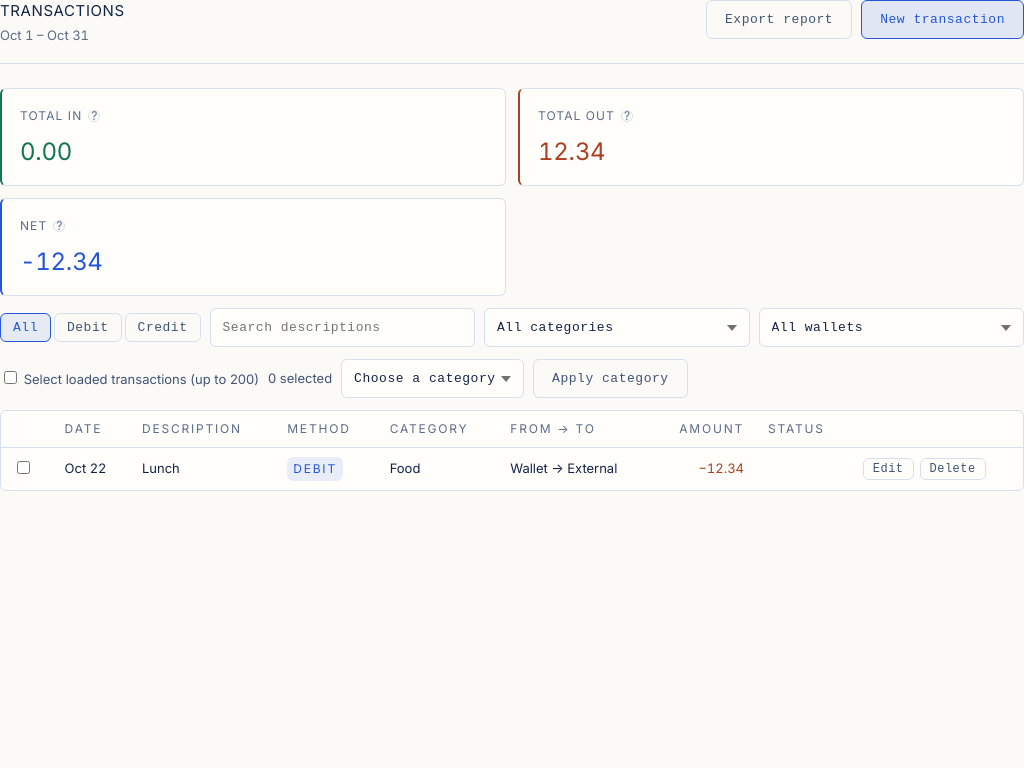
Test: transaction cleanup › prevents exporting a reversed date range
The width and height of the screenshot is (1024, 768).
Step 1. Click the button "Export report" → point(779, 20), box [706, 0, 852, 39]
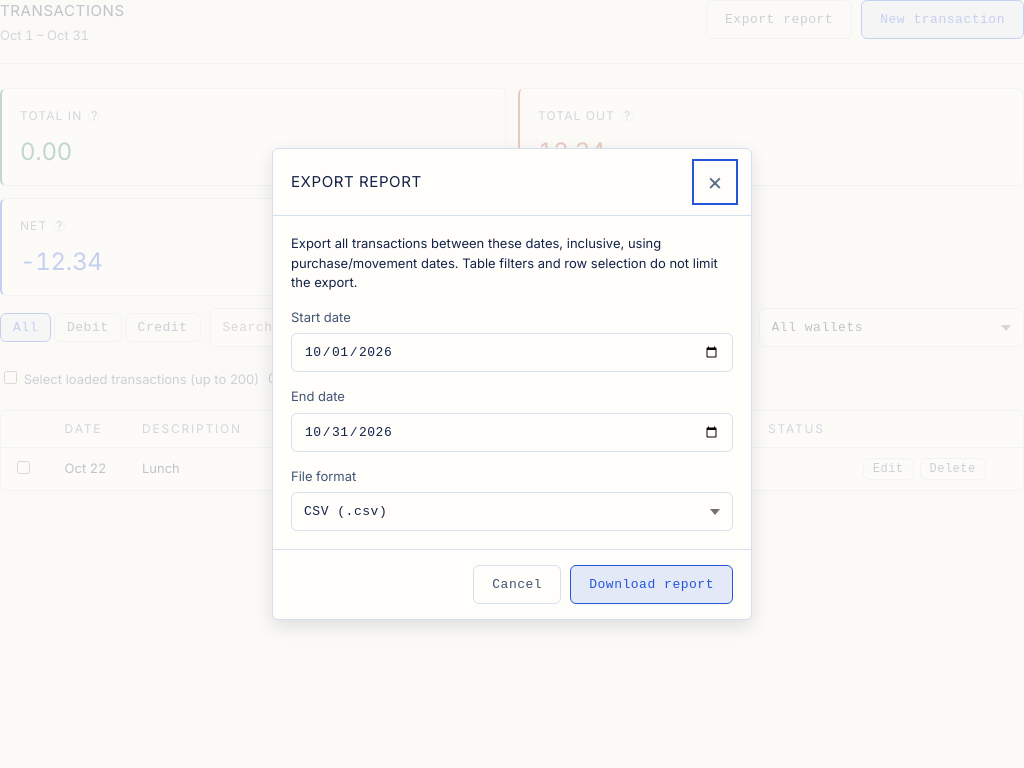
Step 2. Clear the date field labelled "End date" → point(512, 432), box [291, 412, 733, 452]
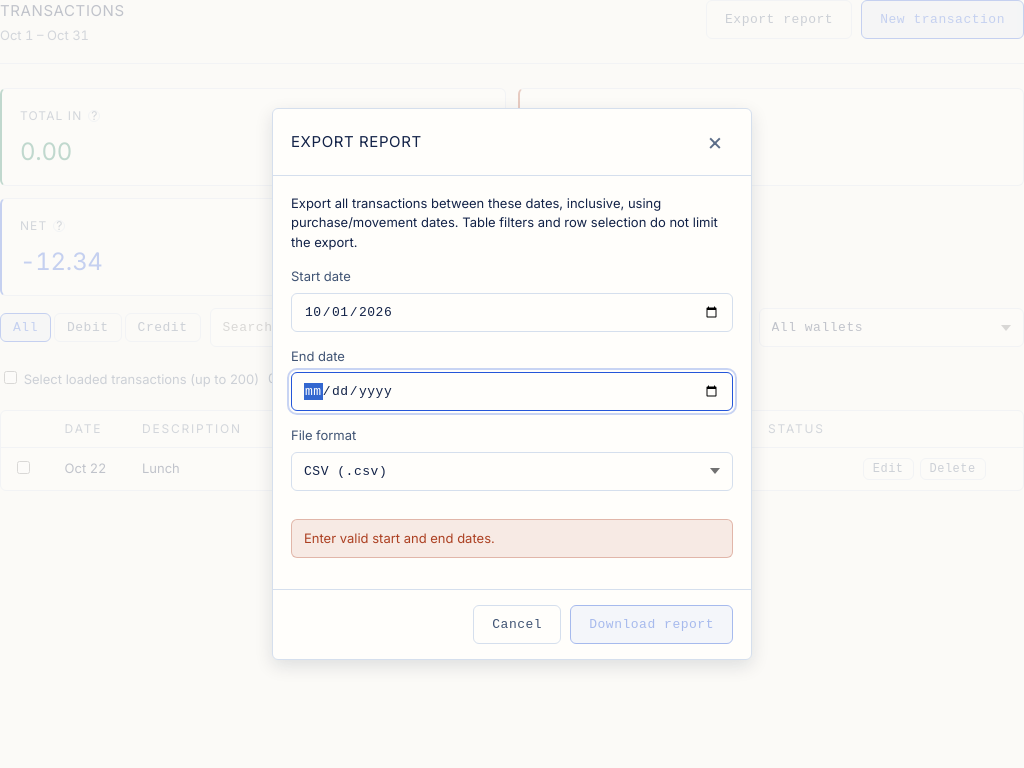
Step 3. Type "2026-09-30" into the date field labelled "End date" → point(512, 392), box [291, 372, 733, 411]
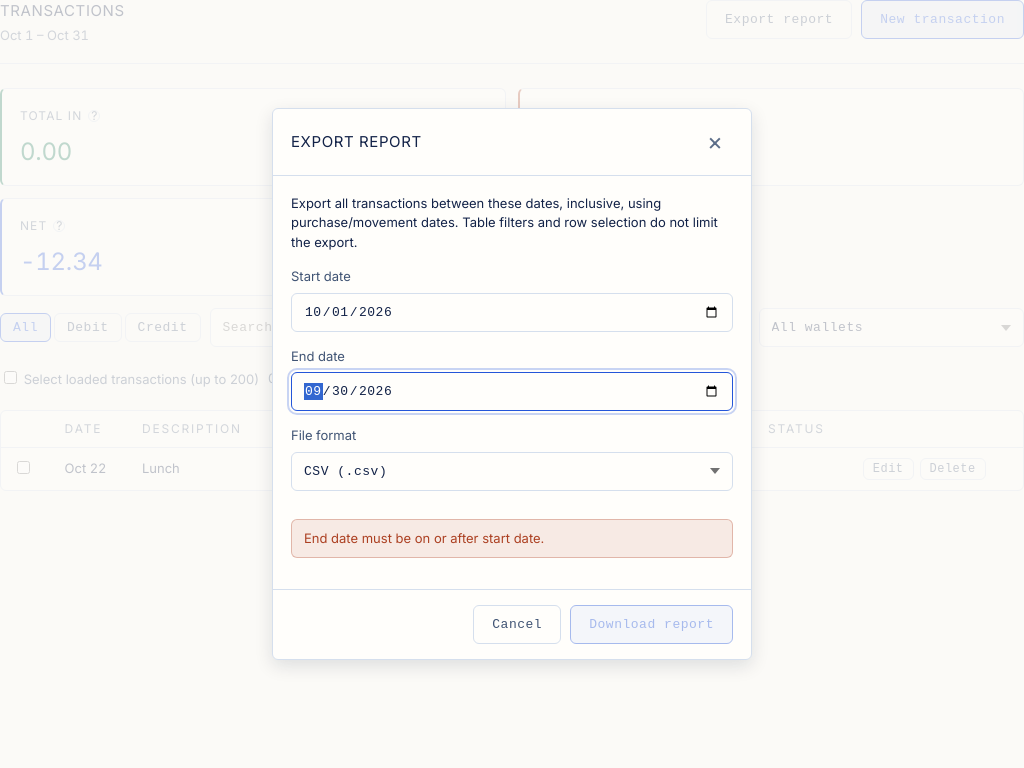
Expected: the button "Download report" is disabled, [570, 605, 733, 644]
Expected: the message reads "End date must be on or after start date.", [304, 530, 544, 546]
